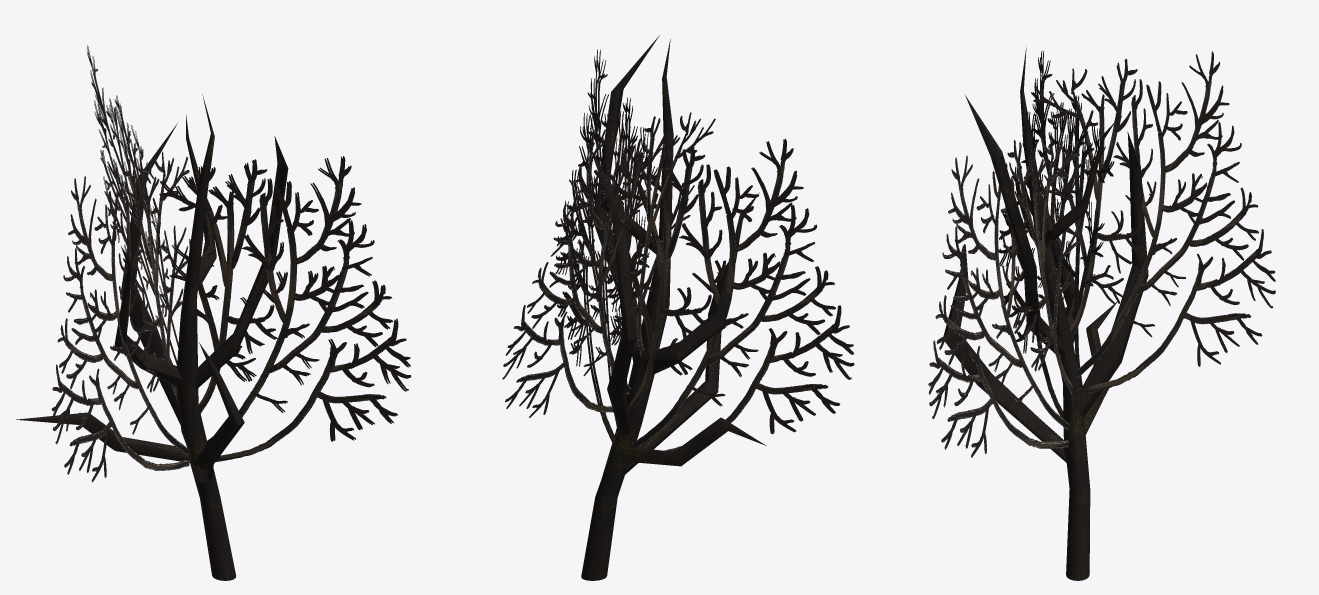
File: Tree06.fbx
The picture shows the model from 3 angles, left to right: view 1: azimuth 30°, elevation 25°; view 2: azimuth 150°, elevation 25°; view 3: azimuth 270°, elevation 25°; orthographic projection. The views are drawn at different scales.
Visible parts, largest first — view 1: Tree_06; view 2: Tree_06; view 3: Tree_06.
Boxes of the visible parts, bbox=[...] form: Tree_06: bbox=[16, 45, 411, 580]; Tree_06: bbox=[502, 35, 854, 580]; Tree_06: bbox=[928, 46, 1275, 580].
Bounding box in the file's own units: 3.23 × 4.48 × 3.02.
2 materials, 2 textured.
